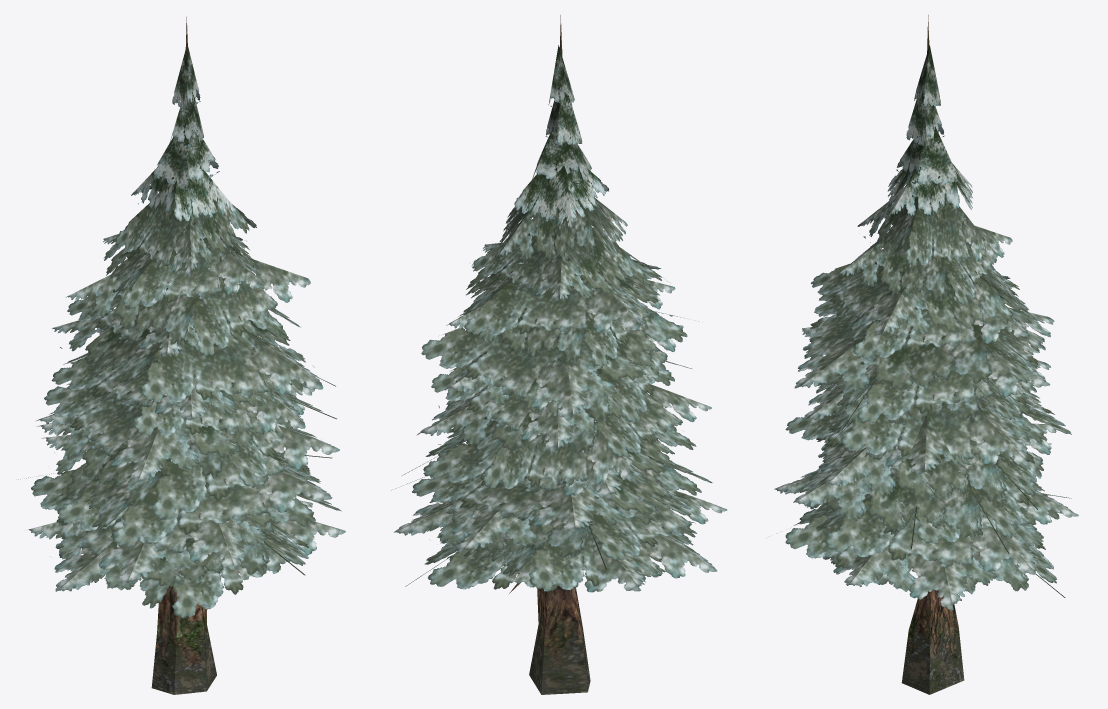
Rendered from C1SNPNSN2H.obj.
The picture shows the model from 3 angles, left to right: view 1: azimuth 30°, elevation 25°; view 2: azimuth 150°, elevation 25°; view 3: azimuth 270°, elevation 25°; orthographic projection.
Parts seen in each view (by area): view 1: Node 0; view 2: Node 0; view 3: Node 0.
Part boxes in pixels (x1,y1,x2,y2): Node 0: (18, 16, 345, 694); Node 0: (391, 15, 727, 694); Node 0: (774, 15, 1078, 694).
Bounding box in the file's own units: 14.68 × 31.68 × 14.21.
Materials: 2 (2 with a texture image).
